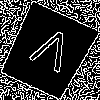V: (23, 25, 77, 81)
